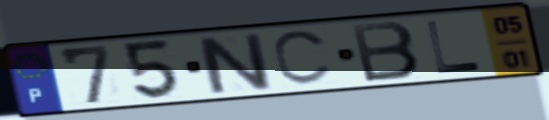5: (118, 37, 183, 102)
7: (55, 44, 116, 107)
B: (347, 19, 423, 85)
C: (270, 28, 335, 88)
L: (423, 18, 486, 76)
N: (192, 31, 277, 97)
